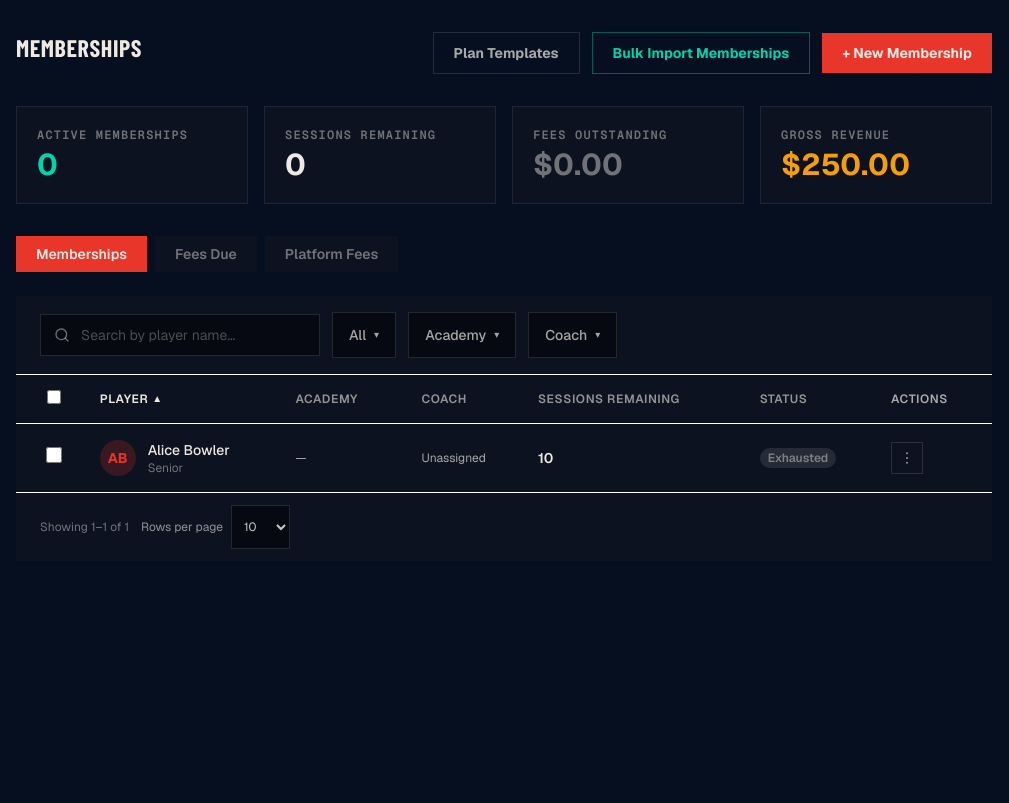
Test: SessionPacksClient › Renew Membership on an Exhausted pack prefills the New Membership form
The width and height of the screenshot is (1009, 803).
expect the text "Alice Bowler" is shown: met, box [148, 440, 230, 460]
Click the button named "More actions". click: coordinates (907, 458)
box: [891, 442, 923, 474]
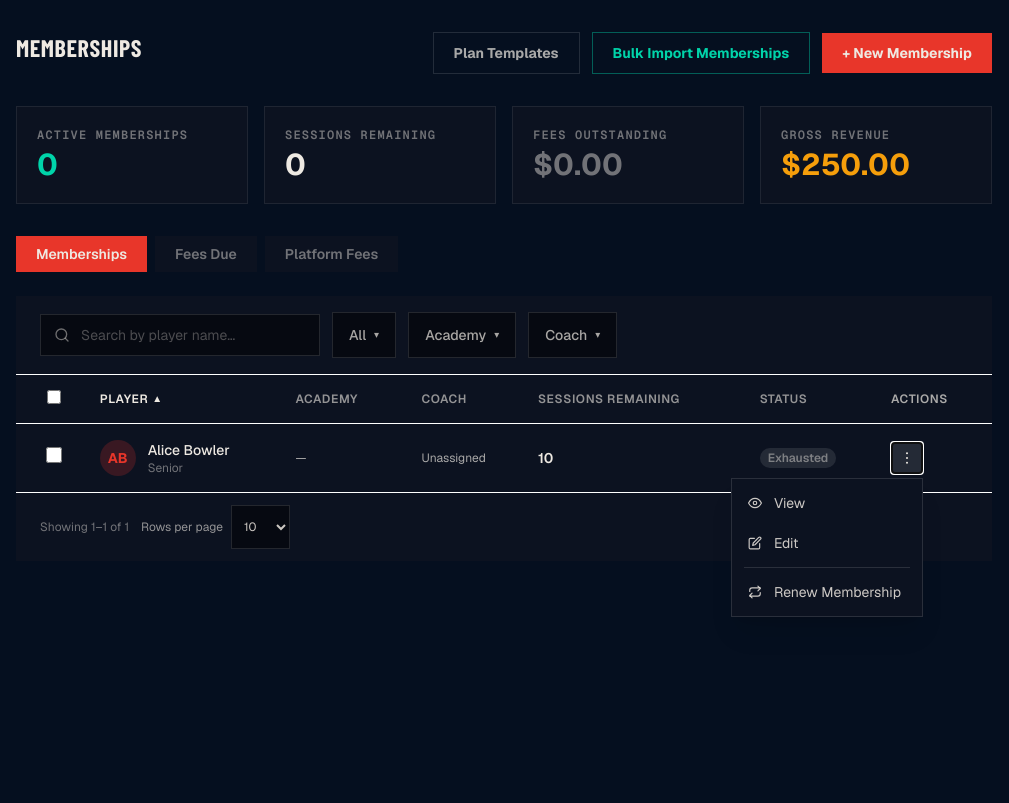
Click the button "Renew Membership". click: coordinates (827, 592)
box: [732, 572, 922, 612]
(page scrolled)
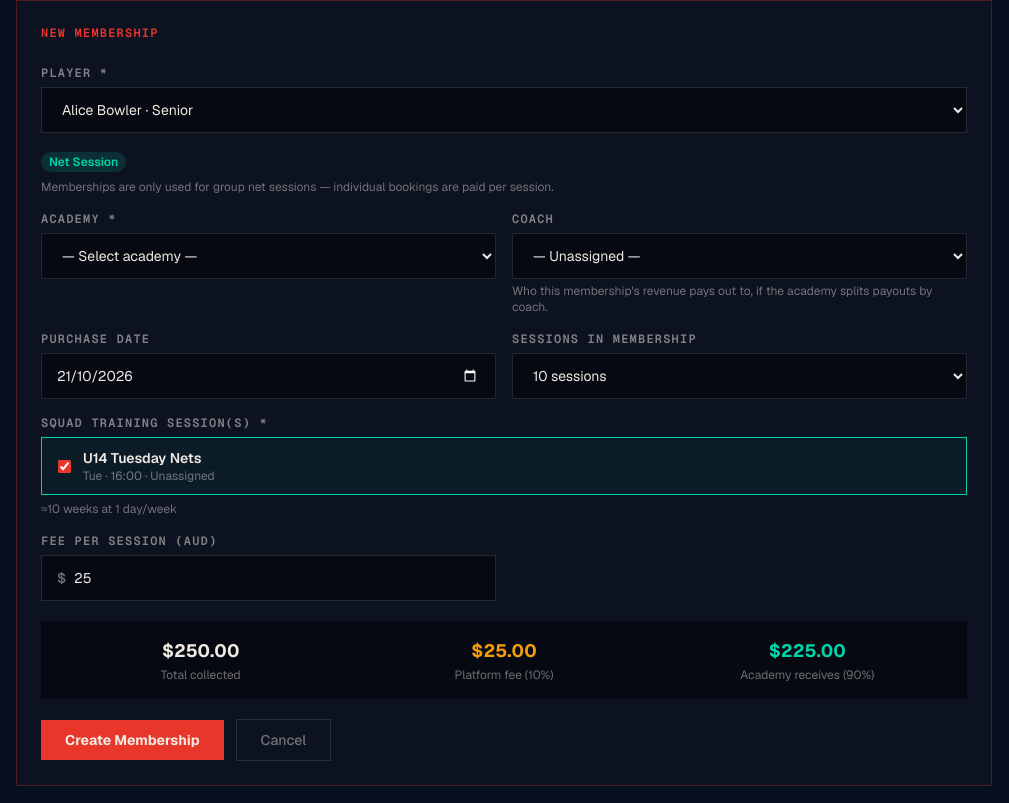
expect the heading "New Membership" is shown: met, box [41, 25, 159, 41]
expect the number field showing "25" is shown: met, box [41, 555, 496, 601]
